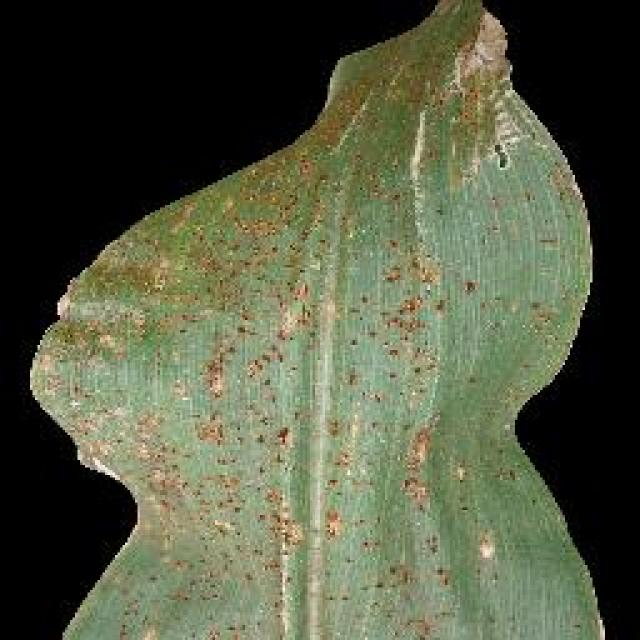Corn Common Rust: (44, 126, 498, 612)
